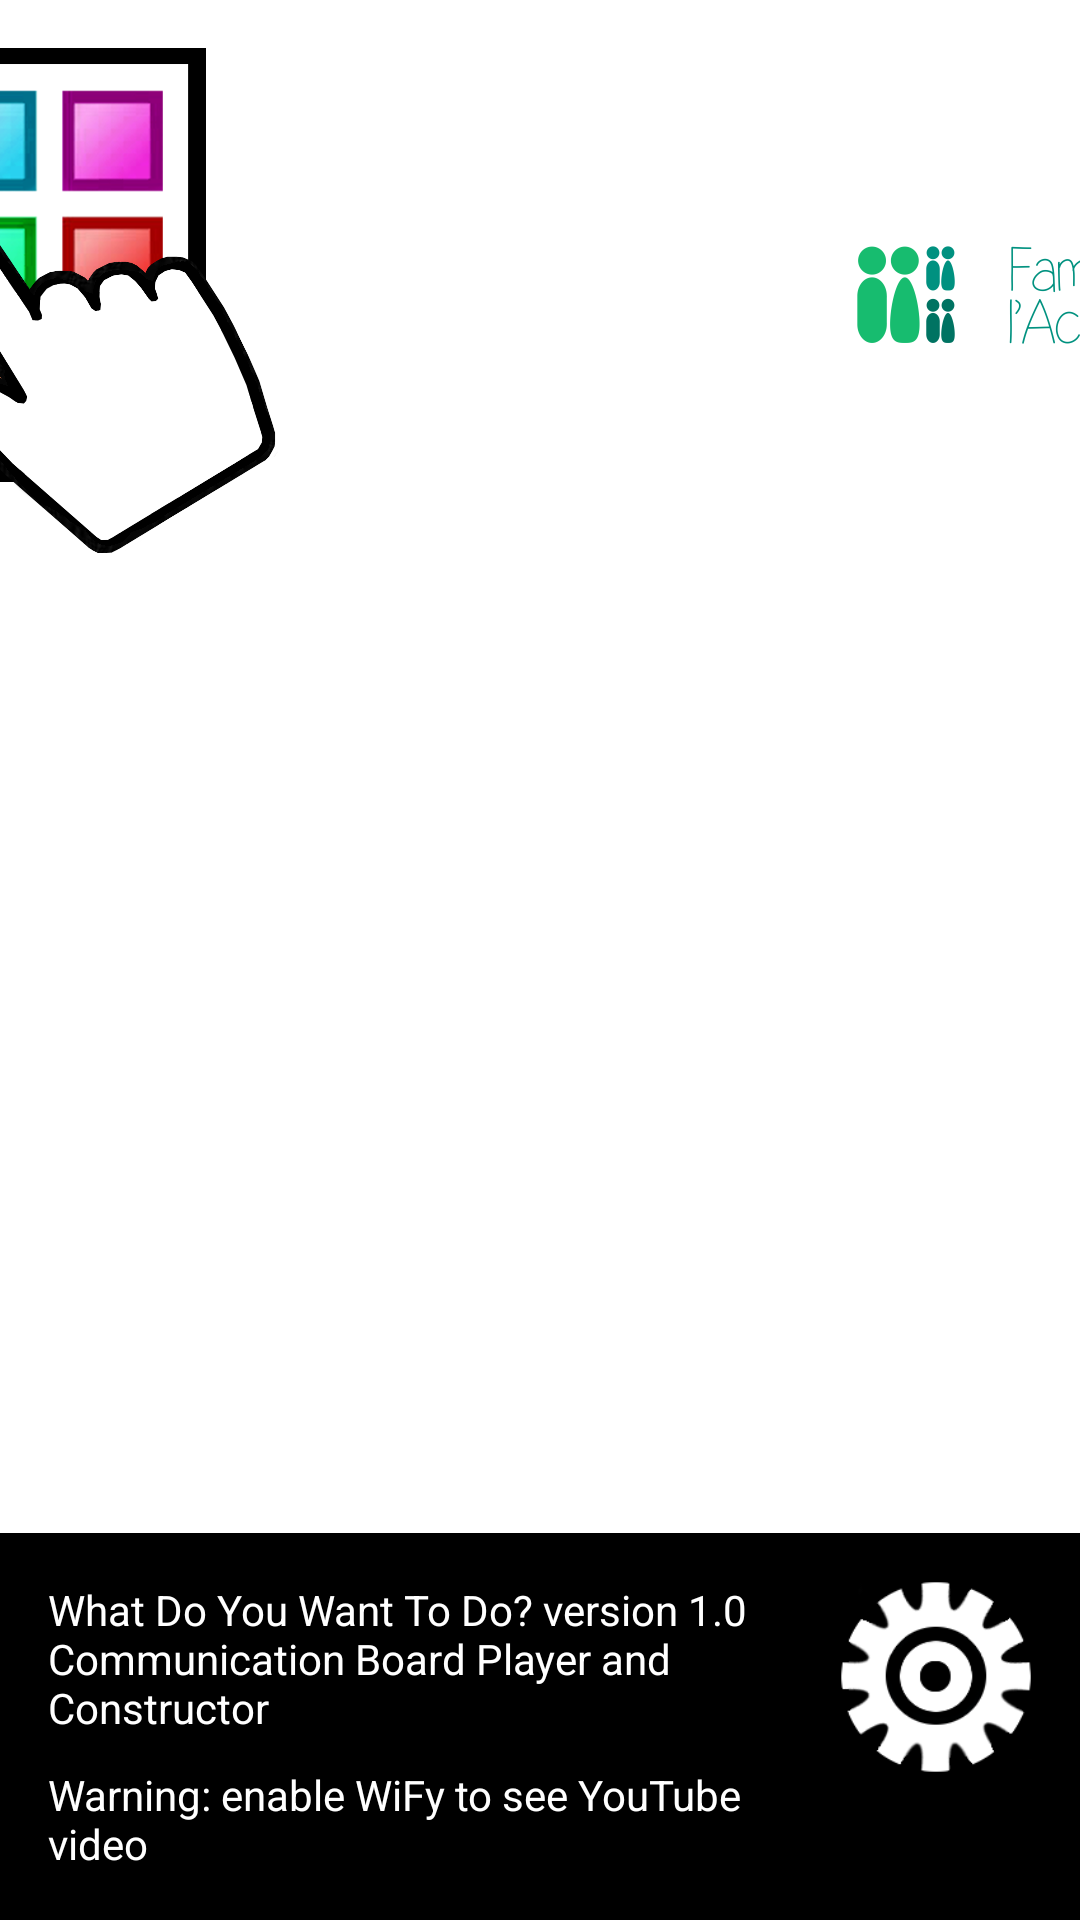

Icon click points for this 1080×1920 phone screenshot, format (x,y):
settings: (936,1677)
